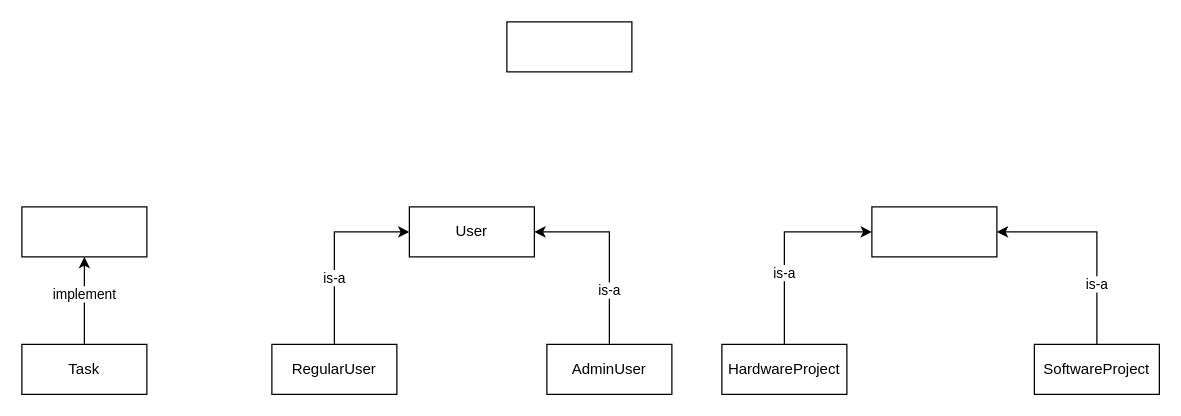
The diagram is 1181 pixels wide and 416 high, and some of its shapes have lost their labels. Here are the shapes that lost their labels. From the top down, the centre of each, then its label:
At (x=569, y=46): "StatusReport".
At (x=84, y=231): "Completable".
At (x=934, y=231): "Project".
